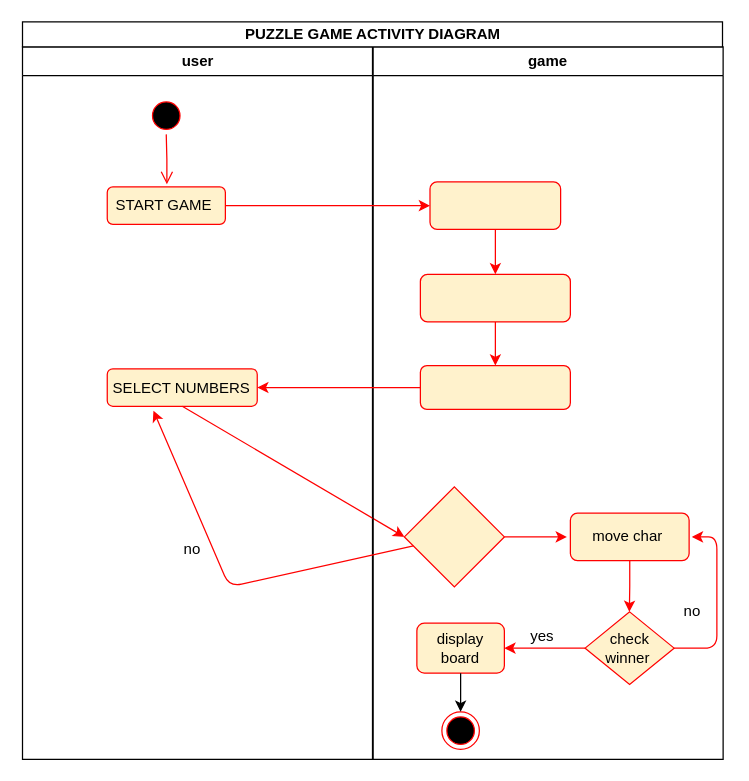
Some shapes in this 749 by 781 pixel diagram are drawn without their labels. The shapes that lost their labels are listed below. From the top down, each one's centre as x and y in pixels, then its label:
[495,205]: INITIALIZEBOAED
[494,297]: RANDOMIZE BOARD
[494,386]: PRINT BOARD
[453,536]: check moves
